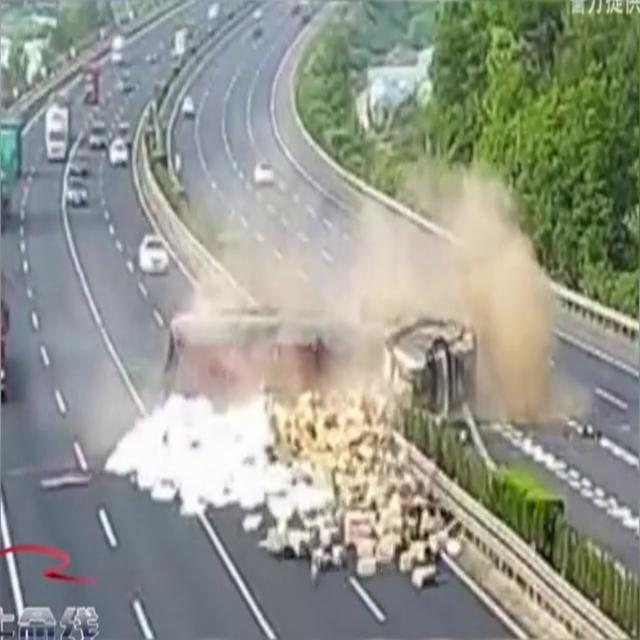multiple_accident: (140, 279, 529, 606)
